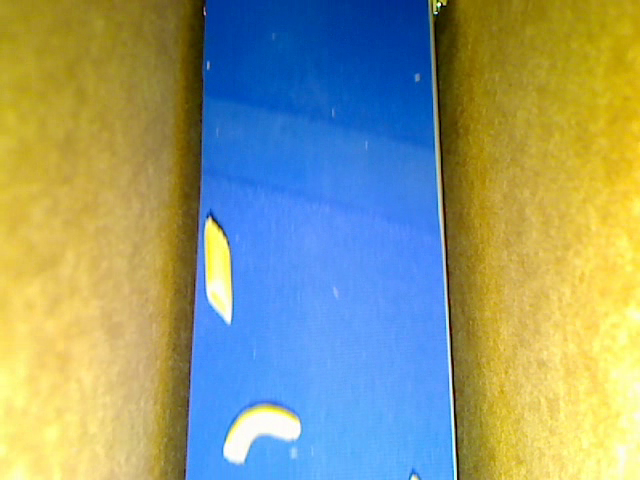elbow: (222, 402, 301, 464)
penne: (203, 215, 234, 325)
